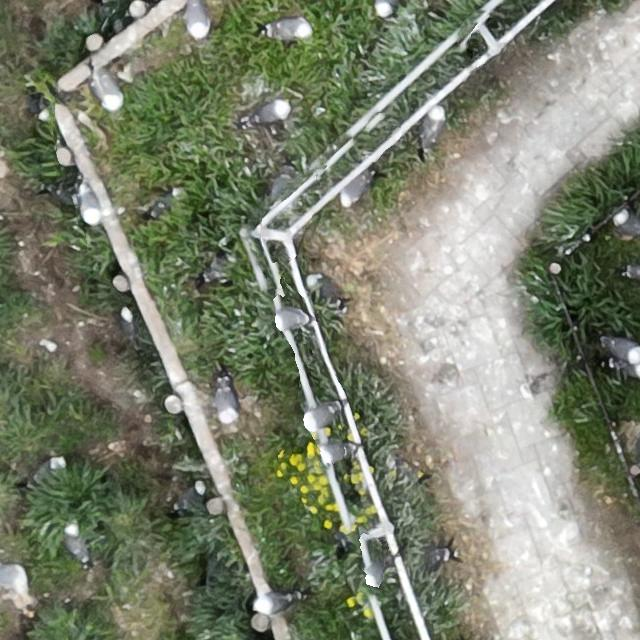umineko: (88, 67, 128, 111), (421, 104, 445, 156), (181, 2, 209, 42), (270, 17, 310, 37), (217, 384, 238, 422), (312, 278, 342, 304), (64, 528, 86, 562), (251, 101, 286, 121), (340, 180, 369, 204), (80, 188, 100, 222), (606, 337, 638, 358), (178, 482, 203, 508), (306, 404, 335, 426), (257, 594, 292, 612), (615, 212, 639, 238), (276, 308, 306, 328), (364, 558, 384, 587), (322, 441, 350, 461), (427, 547, 452, 565), (33, 457, 56, 475), (120, 308, 134, 336), (374, 1, 394, 18), (624, 264, 639, 280)
